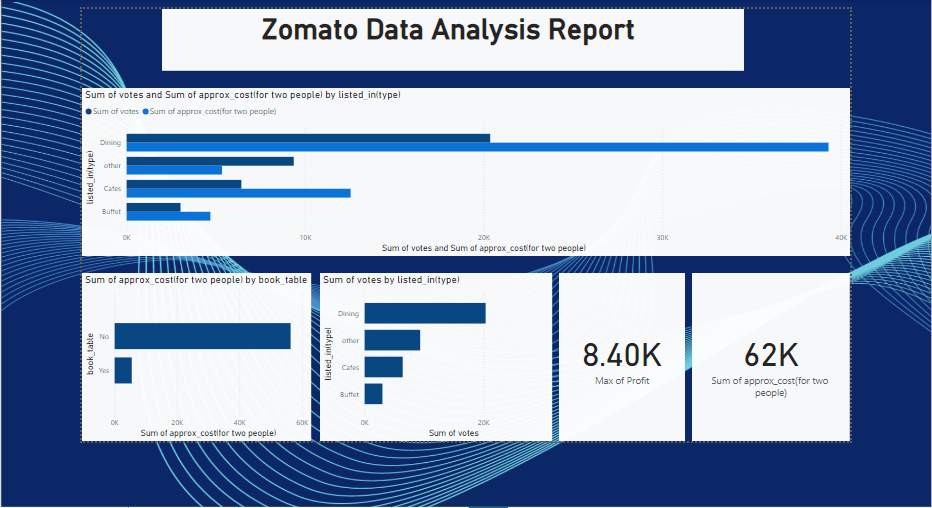

This screenshot's page, from the dashboard's own definition file:
{"tool":"powerbi","page":{"name":"ZomatoDataAnalysis","canvas":[1280,720],"ordinal":1},"visuals":[{"type":"clusteredBarChart","fields":{"Category":["Zomato data.book_table"],"Y":["Sum(Zomato data.approx_cost(for two people))"]},"box":[0,440,381.7,280],"z":0},{"type":"clusteredBarChart","fields":{"Category":["Zomato data.listed_in(type)"],"Y":["Sum(Zomato data.votes)"]},"box":[396.7,440,386.7,280],"z":1000},{"type":"clusteredBarChart","fields":{"Category":["Zomato data.listed_in(type)"],"Y":["Sum(Zomato data.votes)","Sum(Zomato data.approx_cost(for two people))"]},"box":[0,131.7,1280,280],"z":1001},{"type":"card","fields":{"Values":["Max(Orders1.Profit)"]},"box":[795,440,210,280],"z":1002},{"type":"card","fields":{"Values":["Sum(Zomato data.approx_cost(for two people))"]},"box":[1017,440,263,280],"z":1003},{"type":"textbox","box":[133.3,0,970,103.3],"z":1004}]}

Visuals, with their boxes on the page's 1280x720 design canvas (x1, y1, x2, y2). These are canvas units, not pixel positions in the 932x508 screenshot, which may show the page scaled, cropped or inside an application window:
clusteredBarChart - Zomato data.book_table x Sum(Zomato data.approx_cost(for two people)): Rect(0, 440, 382, 720)
clusteredBarChart - Zomato data.listed_in(type) x Sum(Zomato data.votes): Rect(397, 440, 783, 720)
clusteredBarChart - Zomato data.listed_in(type) x Sum(Zomato data.votes): Rect(0, 132, 1280, 412)
card - Max(Orders1.Profit): Rect(795, 440, 1005, 720)
card - Sum(Zomato data.approx_cost(for two people)): Rect(1017, 440, 1280, 720)
textbox: Rect(133, 0, 1103, 103)
